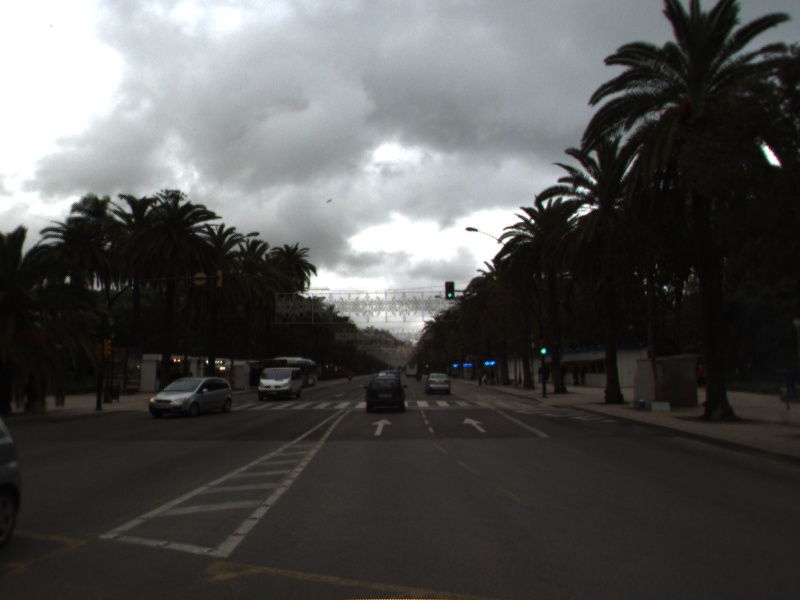STRAIGHT: (369, 416, 395, 437), (461, 415, 489, 434)
